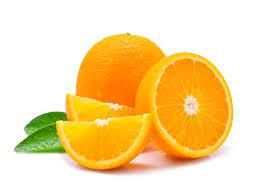orange: (15, 17, 231, 168), (131, 55, 235, 167), (46, 86, 155, 183), (67, 29, 161, 101)
